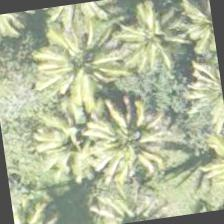Kelapa_Sawit: (32, 13, 134, 116), (21, 87, 123, 189), (80, 91, 182, 192), (102, 0, 204, 88), (10, 184, 69, 223)
